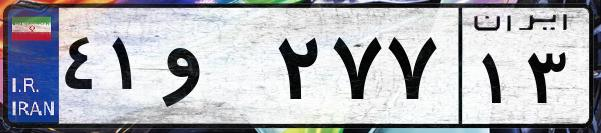1: (475, 38, 525, 113), (110, 28, 158, 98)
2: (270, 28, 330, 110)
3: (525, 38, 570, 115)
4: (57, 26, 110, 100)
7: (385, 28, 445, 110), (330, 28, 385, 110)
و: (158, 20, 270, 120)
